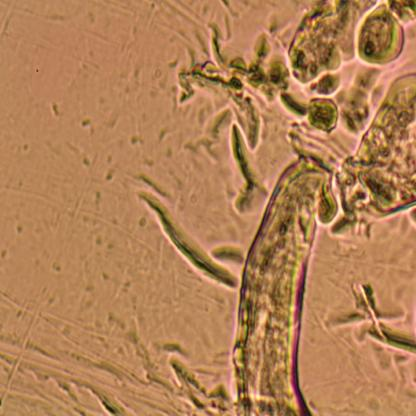Normal: (234, 147, 416, 416)
